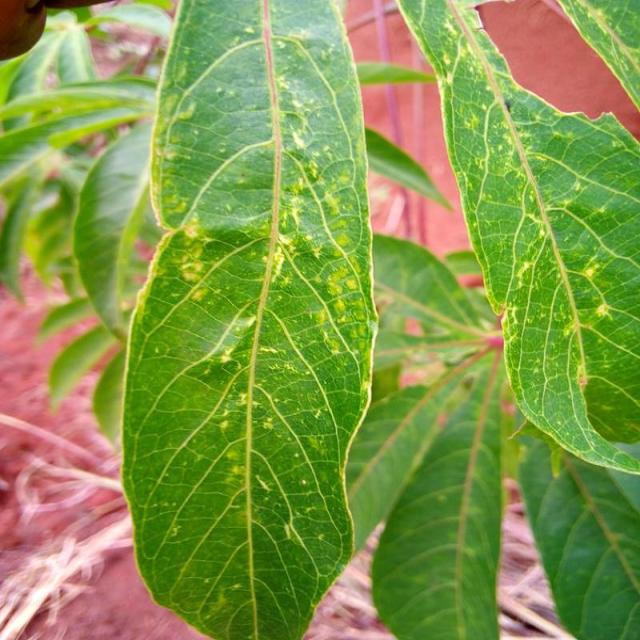cassava leaf: (119, 0, 380, 638), (397, 0, 640, 475)
